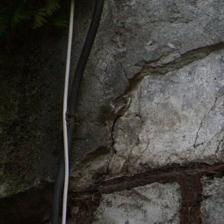Crack: (43, 20, 178, 145)
